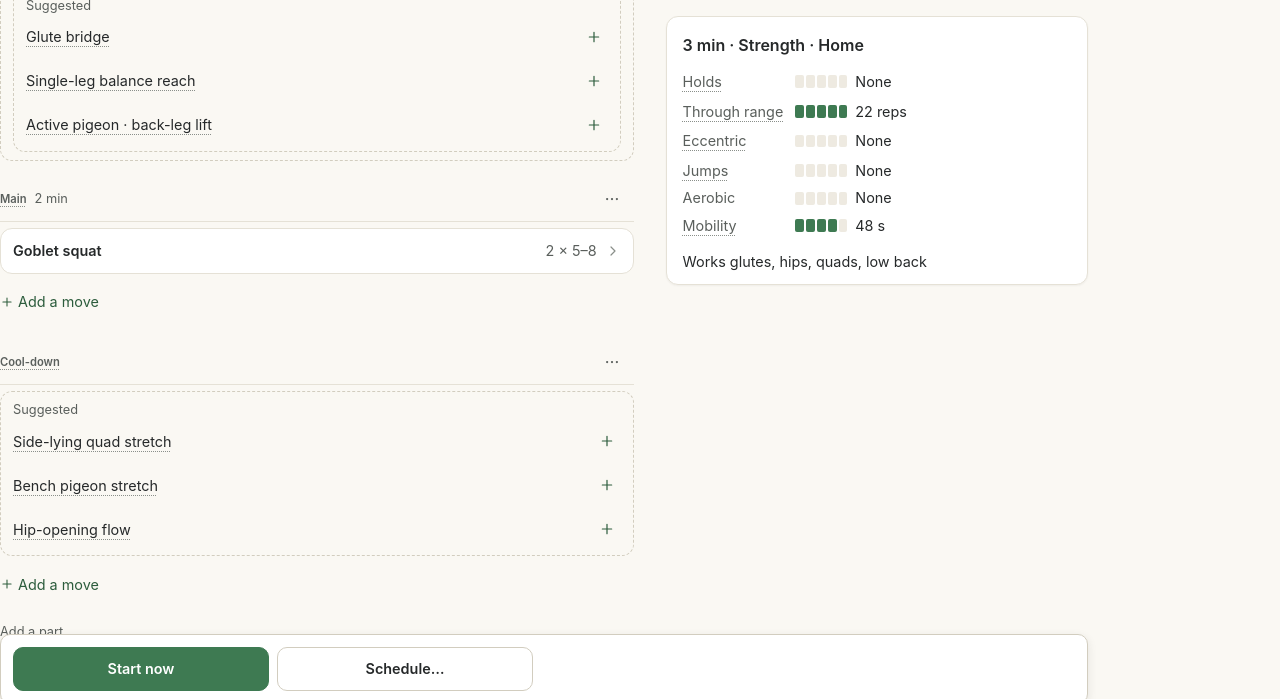
Test: the footer › Undo after a removal is offered only until the next edit
(page scrolled)
Click the button with class "stu-item" at (57, 251), box [1,229,633,273]
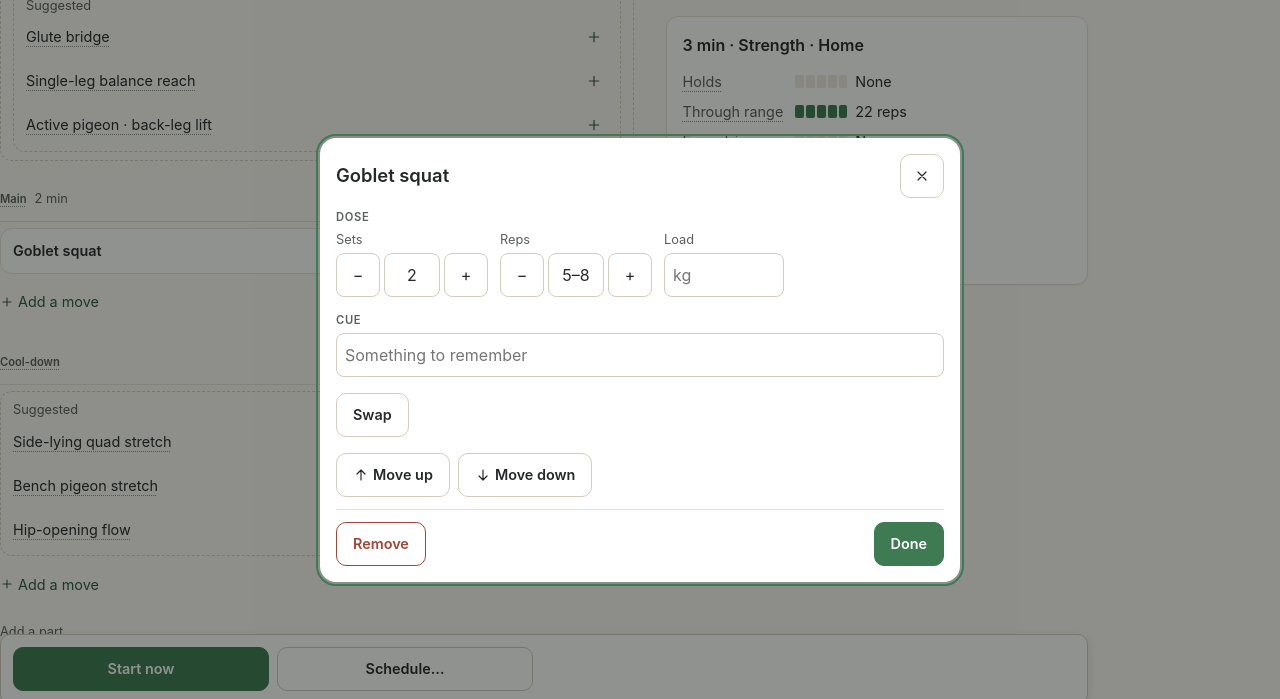
Click the button "Remove" at (381, 544), box [336,522,426,566]
(page scrolled)
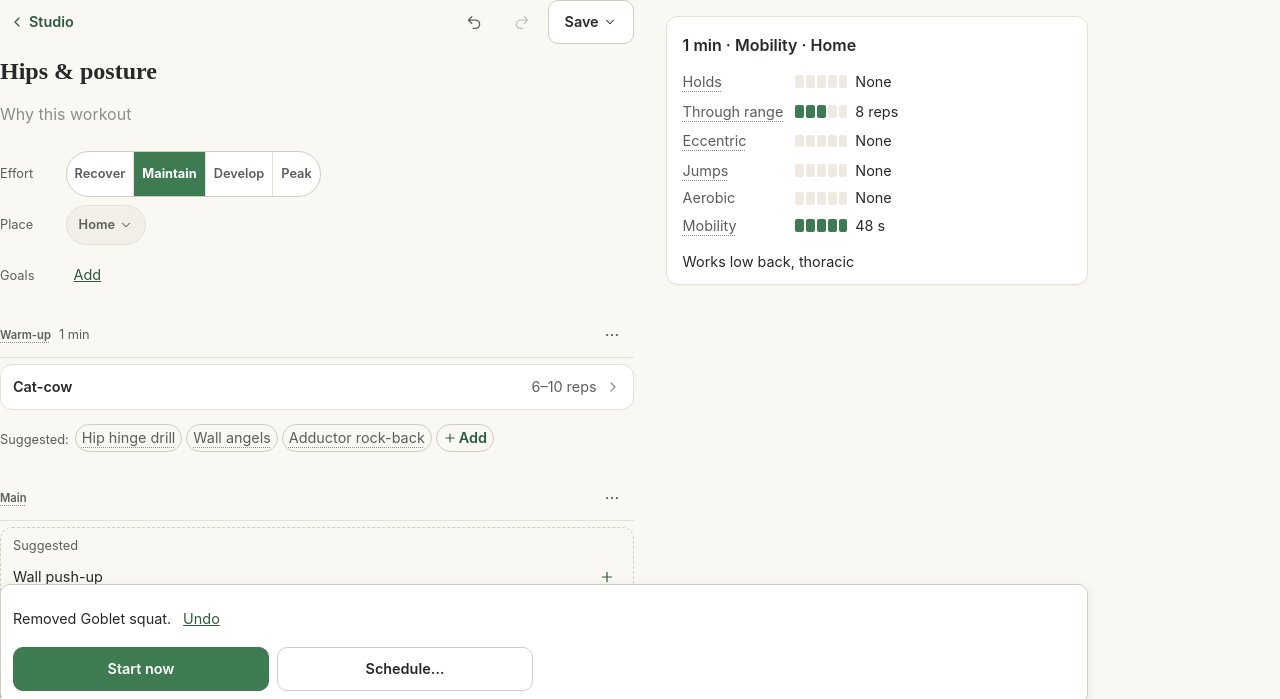
Now the text "Removed Goblet squat." is shown, box [13,608,171,630]
Click the radio button labelled "Develop" at (238, 174), box [205,152,272,196]
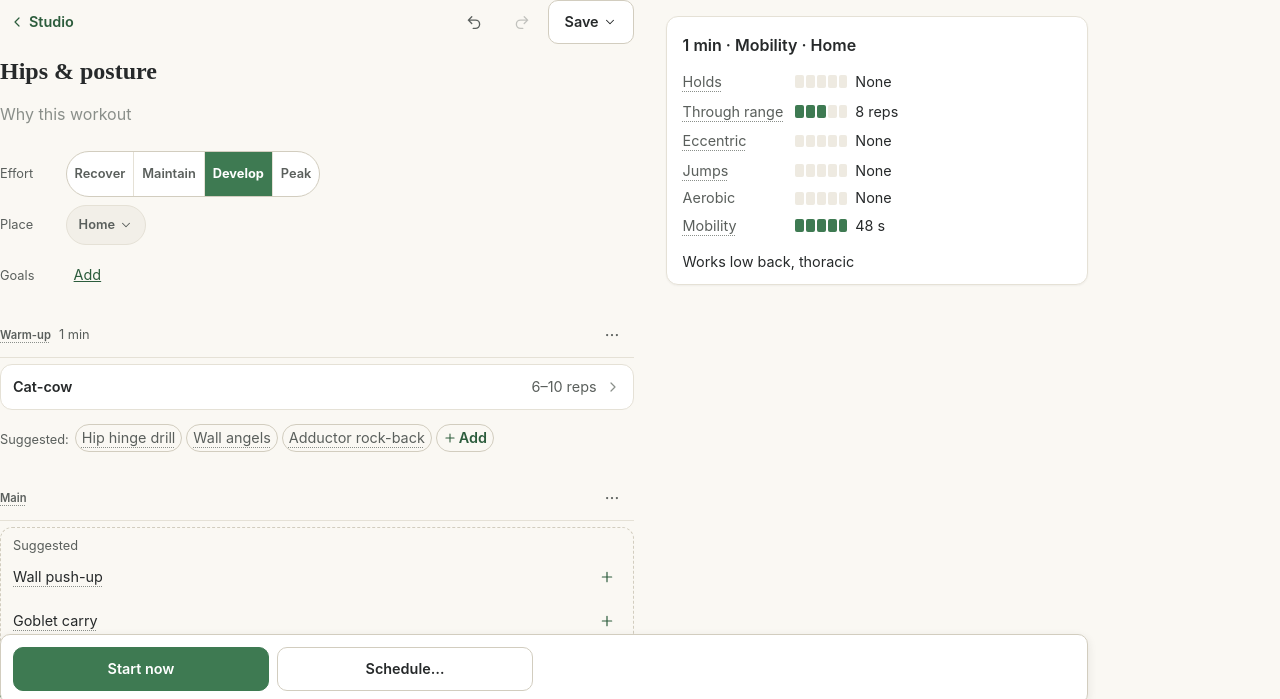
Now the text "Removed Goblet squat." is gone
